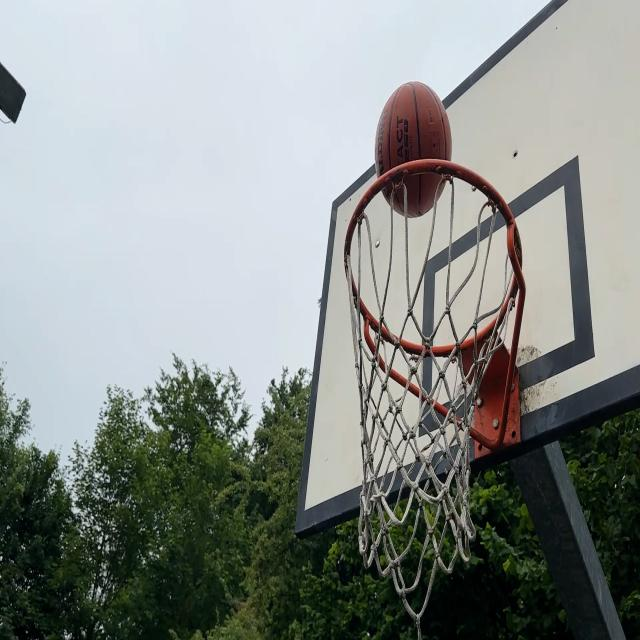Basketball: (378, 82, 450, 217)
